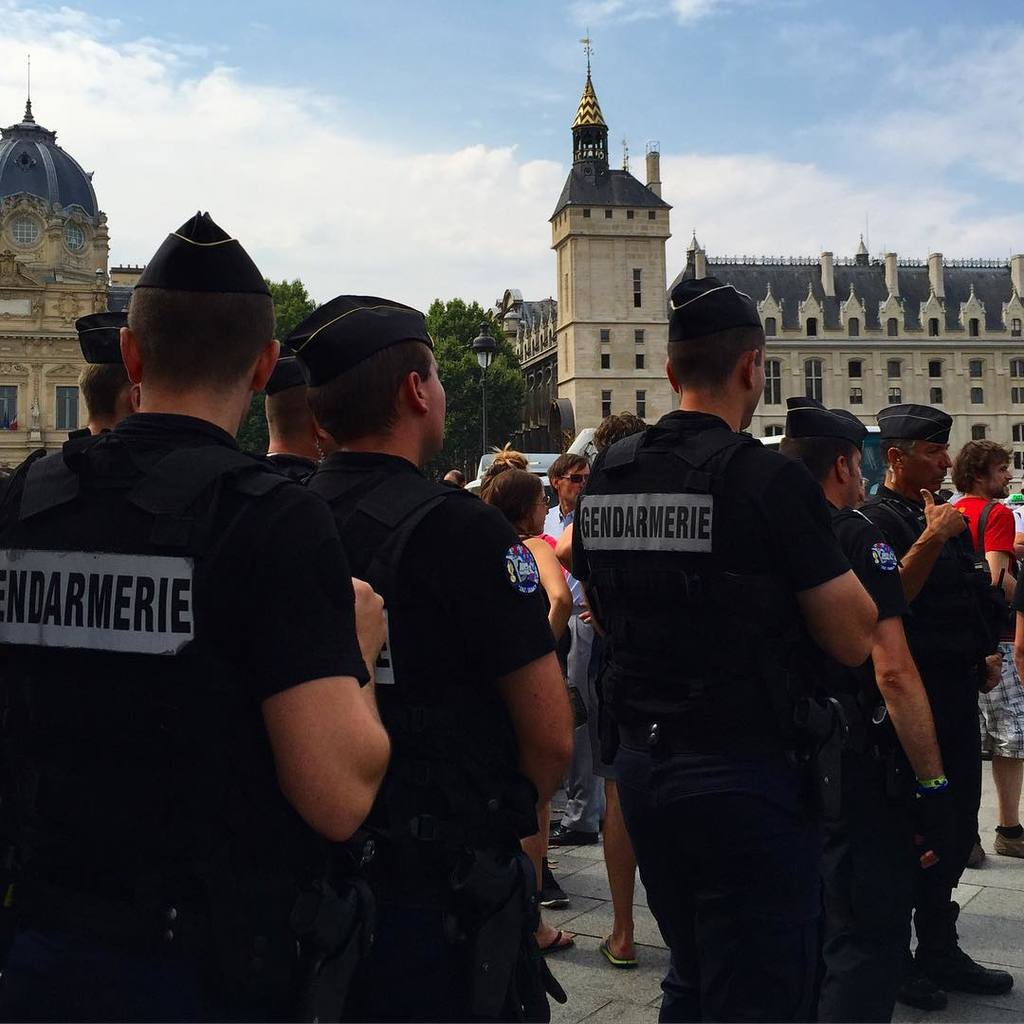Person: (0, 209, 1024, 1023)
